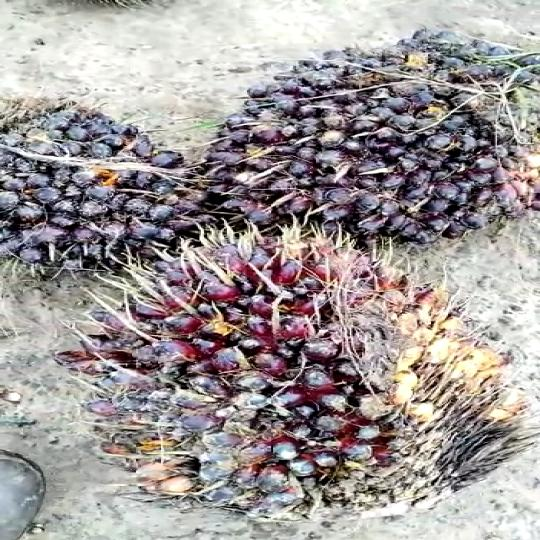kurang masak: (66, 221, 523, 540), (157, 26, 540, 247), (0, 79, 196, 294)
